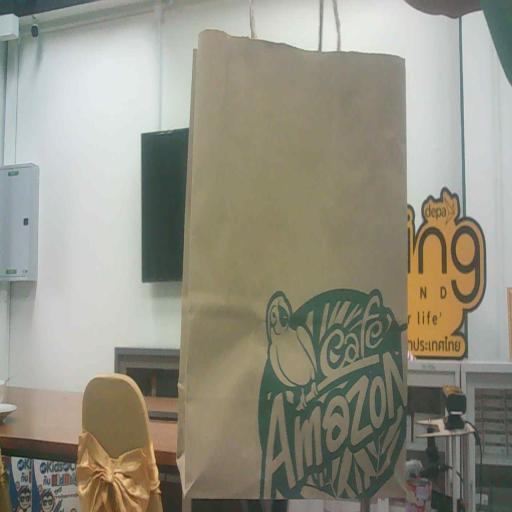bag: (175, 18, 419, 512)
